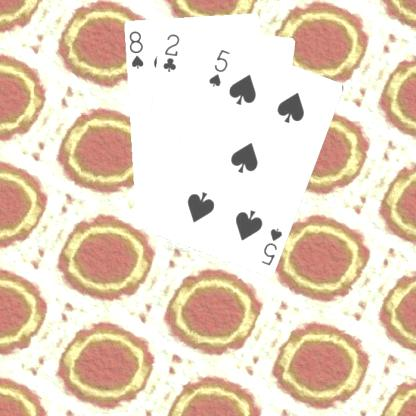2C: (160, 30, 180, 74)
5S: (258, 225, 284, 266), (206, 46, 231, 88)
8S: (127, 28, 144, 70)
